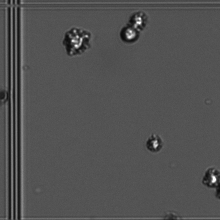Dead Cell: (1, 90, 9, 105)
Living Cell: (61, 27, 97, 57), (142, 132, 167, 156), (127, 10, 153, 33), (119, 26, 142, 44), (202, 164, 217, 189)
